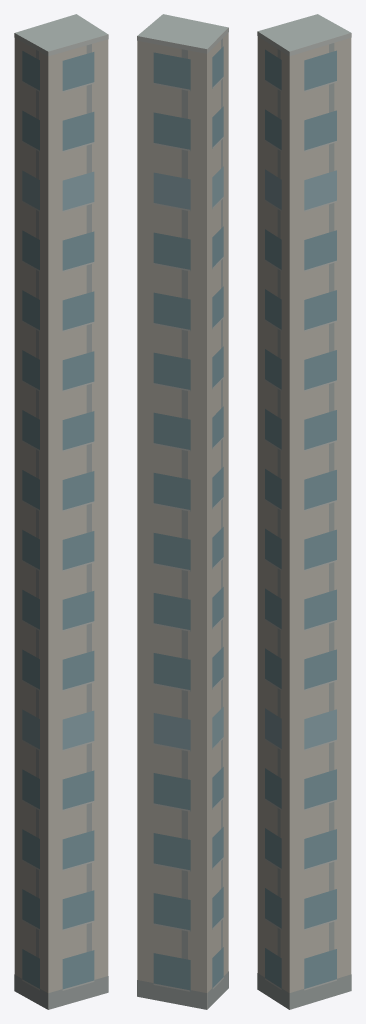
The model's file is survey-upis-32945400.glb.
3 renders of one model, left to right at view 1: azimuth 90°, elevation 25°; view 2: azimuth 210°, elevation 25°; view 3: azimuth 270°, elevation 25°, orthographic.
Parts seen in each view (by area): view 1: survey-upis-32945400.tmp; view 2: survey-upis-32945400.tmp; view 3: survey-upis-32945400.tmp.
Part boxes in pixels (left/top/right/bottom): survey-upis-32945400.tmp: left=14, top=14, right=108, bottom=1009; survey-upis-32945400.tmp: left=137, top=14, right=228, bottom=1009; survey-upis-32945400.tmp: left=257, top=14, right=351, bottom=1009.
Size of the model in its own units: 4.12 by 48.8 by 4.34.
